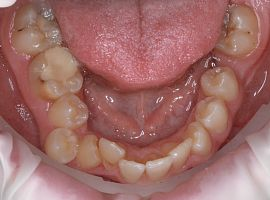LL1BC_healthy: (193, 98, 229, 135)
LL1M_decay: (215, 4, 260, 58)
LL2BC_decay: (200, 67, 239, 103)
LLCI_healthy: (146, 155, 171, 181)
LLC_healthy: (182, 122, 213, 155)
LLLI_healthy: (161, 139, 190, 170)
LR1BC_healthy: (41, 130, 77, 165)
LR1M_decay: (27, 47, 83, 94)
LR2BC_healthy: (48, 96, 87, 128)
LR2M_decay: (12, 4, 62, 51)
LRCI_healthy: (118, 155, 146, 185)
LRC_healthy: (76, 131, 103, 170)
LRL_healthy: (98, 137, 125, 163)
